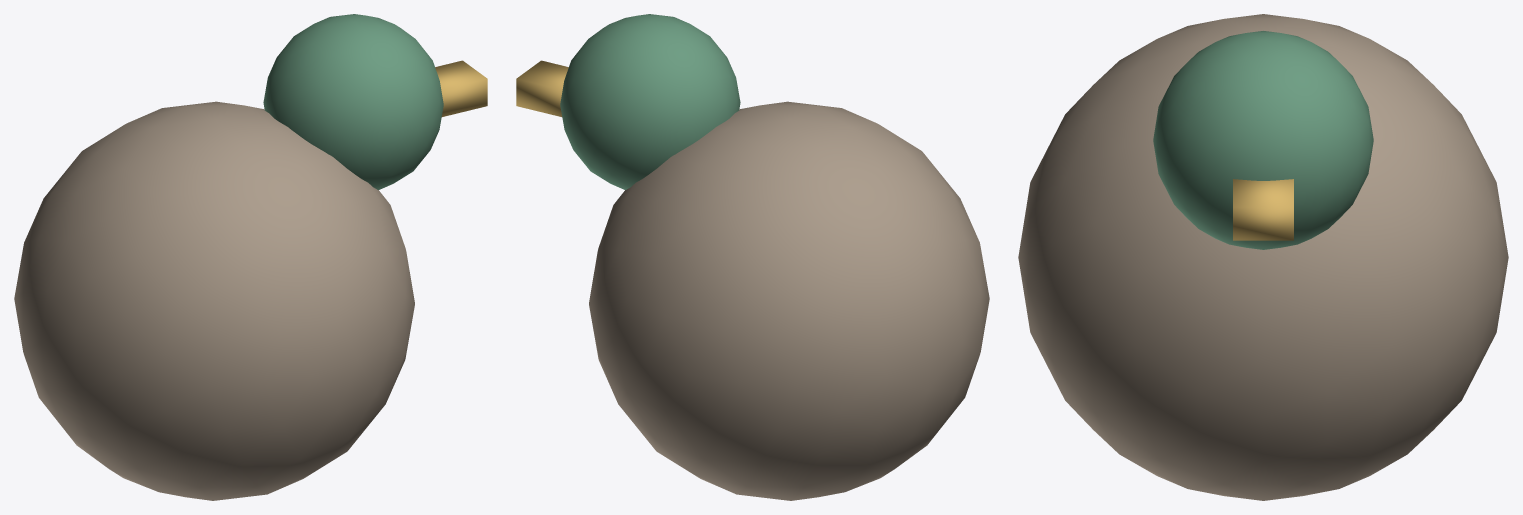
Rendered from duck.glb.
The picture shows the model from 3 angles, left to right: view 1: azimuth 30°, elevation 25°; view 2: azimuth 150°, elevation 25°; view 3: azimuth 270°, elevation 25°; orthographic projection. The views are drawn at different scales.
Parts seen in each view (by area): view 1: duck_0, duck_1, duck_2; view 2: duck_0, duck_1, duck_2; view 3: duck_0, duck_1, duck_2.
Part boxes in pixels (x1,y1,x2,y2): duck_0: [14, 101, 414, 500]; duck_1: [263, 14, 443, 189]; duck_2: [435, 60, 487, 116]; duck_0: [589, 101, 989, 500]; duck_1: [560, 14, 740, 189]; duck_2: [516, 60, 568, 116]; duck_0: [1018, 14, 1508, 500]; duck_1: [1153, 31, 1373, 249]; duck_2: [1233, 179, 1293, 240].
Size of the model in its own units: 0.5 by 0.47 by 0.4.
